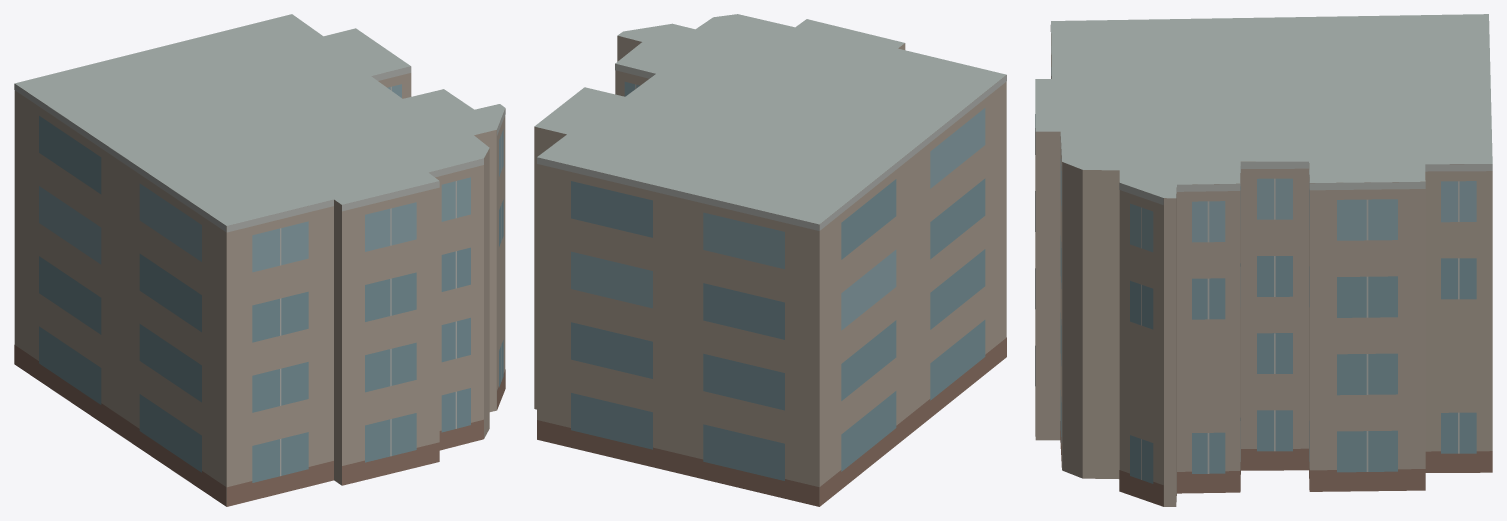
File: survey-upis-32934729.glb
3 views of the same model, side by side, from view 1: azimuth 30°, elevation 25°; view 2: azimuth 150°, elevation 25°; view 3: azimuth 270°, elevation 25° (orthographic). The views are drawn at different scales.
Parts seen in each view (by area): view 1: survey-upis-32934729.tmp; view 2: survey-upis-32934729.tmp; view 3: survey-upis-32934729.tmp.
Boxes of the visible parts, box(x1,y1,x2,y2) form: survey-upis-32934729.tmp: box(14, 14, 505, 506); survey-upis-32934729.tmp: box(534, 14, 1006, 506); survey-upis-32934729.tmp: box(1035, 14, 1492, 506).
Bounding box in the file's own units: 13.31 × 10.4 × 13.97.
